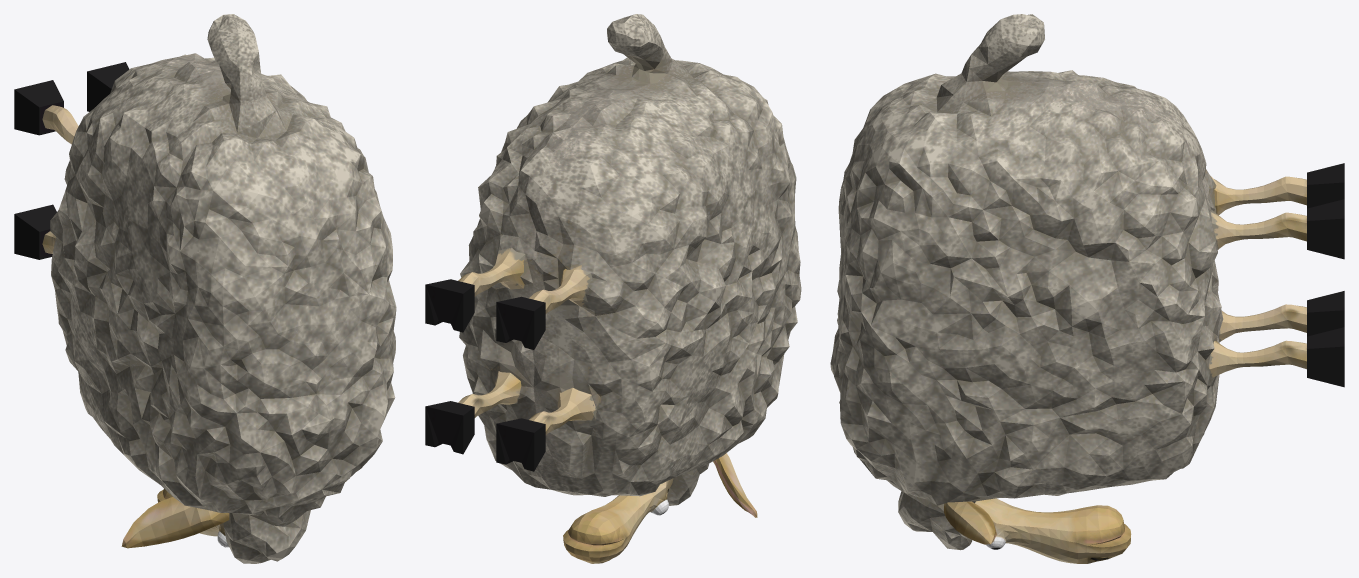
The model's file is sheep.obj.
The picture shows the model from 3 angles, left to right: view 1: azimuth 30°, elevation 25°; view 2: azimuth 150°, elevation 25°; view 3: azimuth 270°, elevation 25°; orthographic projection. The views are drawn at different scales.
Visible parts, largest first — view 1: Object.1; view 2: Object.1; view 3: Object.1.
Part boxes in pixels (x1=…): Object.1: x1=14, y1=14, x2=396, y2=563; Object.1: x1=425, y1=14, x2=801, y2=563; Object.1: x1=830, y1=14, x2=1344, y2=563.
Size of the model in its own units: 1.01 by 2.19 by 1.86.
Materials: 1 (1 with a texture image).
